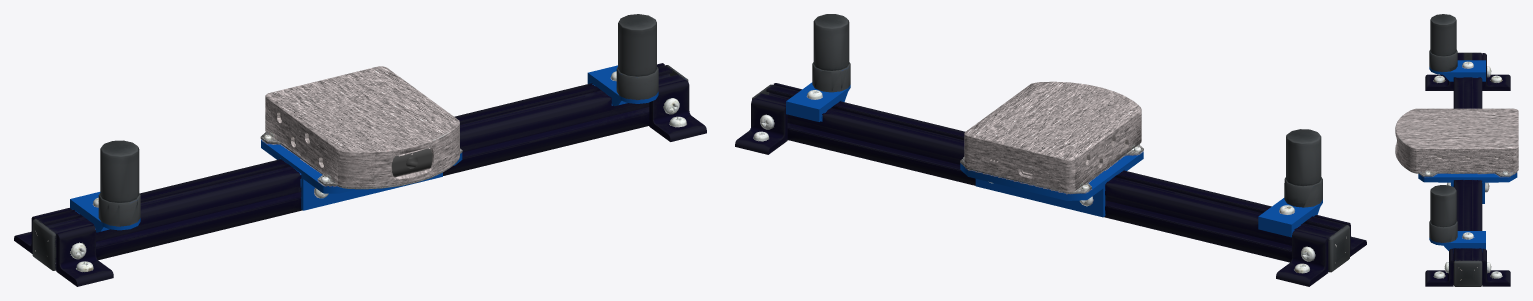
Rendered from fixpos.dae.
3 views of the same model, side by side, from view 1: azimuth 30°, elevation 25°; view 2: azimuth 150°, elevation 25°; view 3: azimuth 270°, elevation 25° (orthographic). The views are drawn at different scales.
Parts seen in each view (by area): view 1: Assembly_fixposition_frame; view 2: Assembly_fixposition_frame; view 3: Assembly_fixposition_frame.
Part boxes in pixels (x1,y1,x2,y2): Assembly_fixposition_frame: [14, 14, 706, 286]; Assembly_fixposition_frame: [735, 14, 1366, 286]; Assembly_fixposition_frame: [1395, 14, 1518, 286].
Bounding box in the file's own units: 524 × 93.64 × 130.
Materials: 8 (8 with a texture image).
